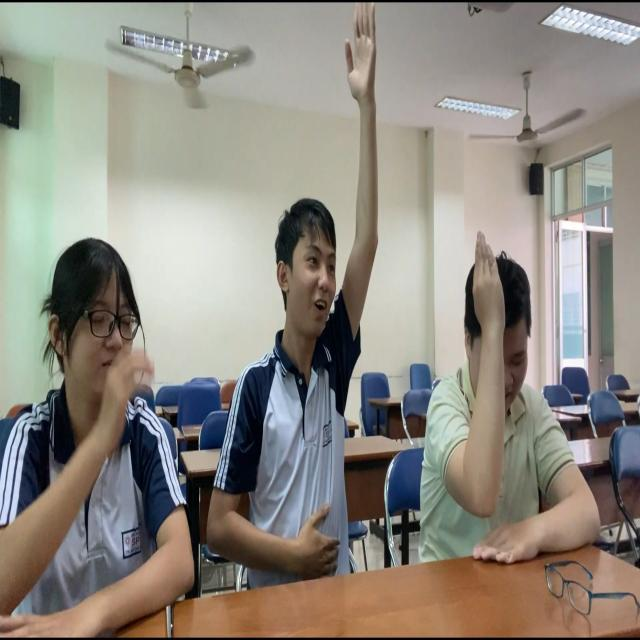raise_hand: (213, 8, 425, 640), (1, 197, 220, 640), (413, 228, 611, 614)
